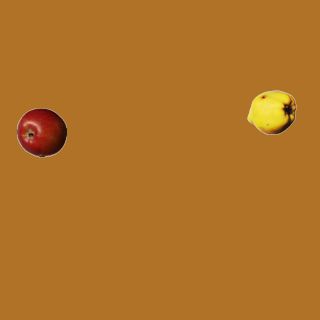Apple Braeburn: (16, 107, 66, 157)
Quince: (246, 87, 296, 137)
